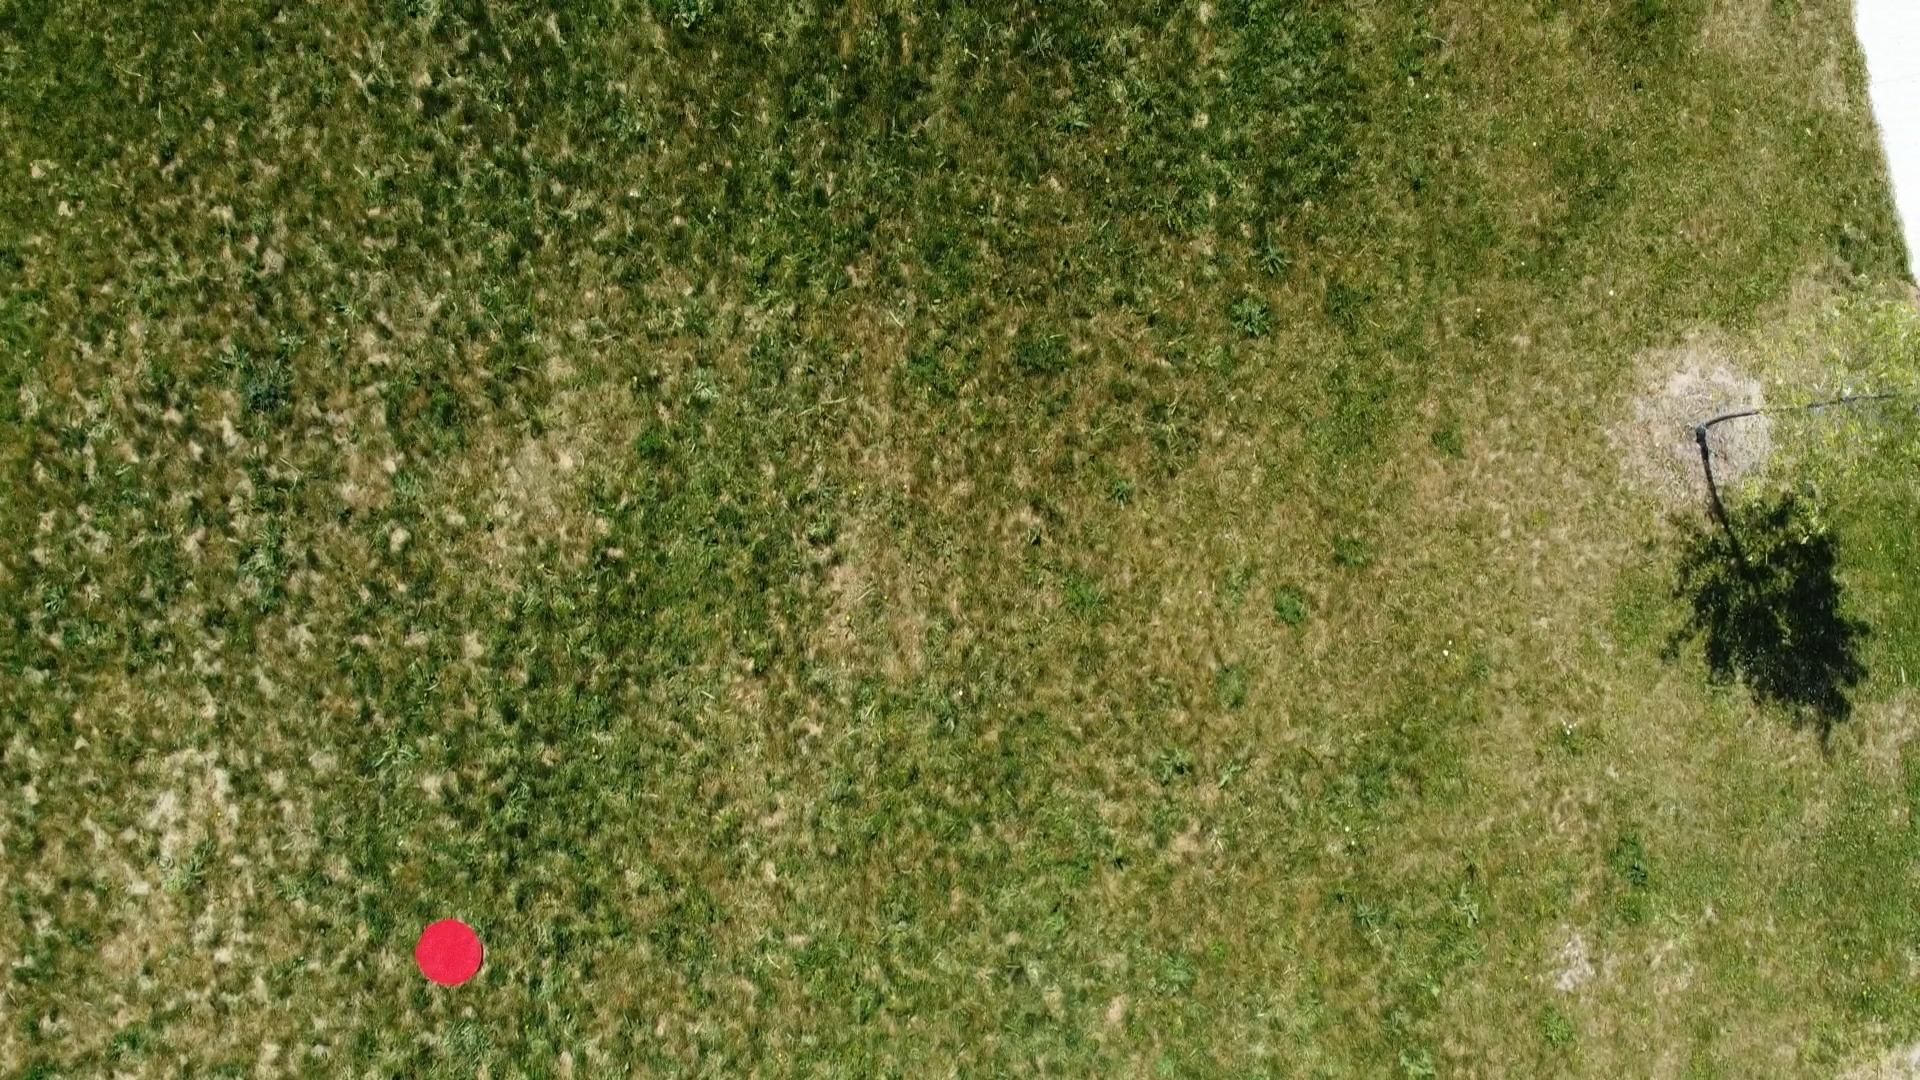Red: (413, 916, 487, 988)
